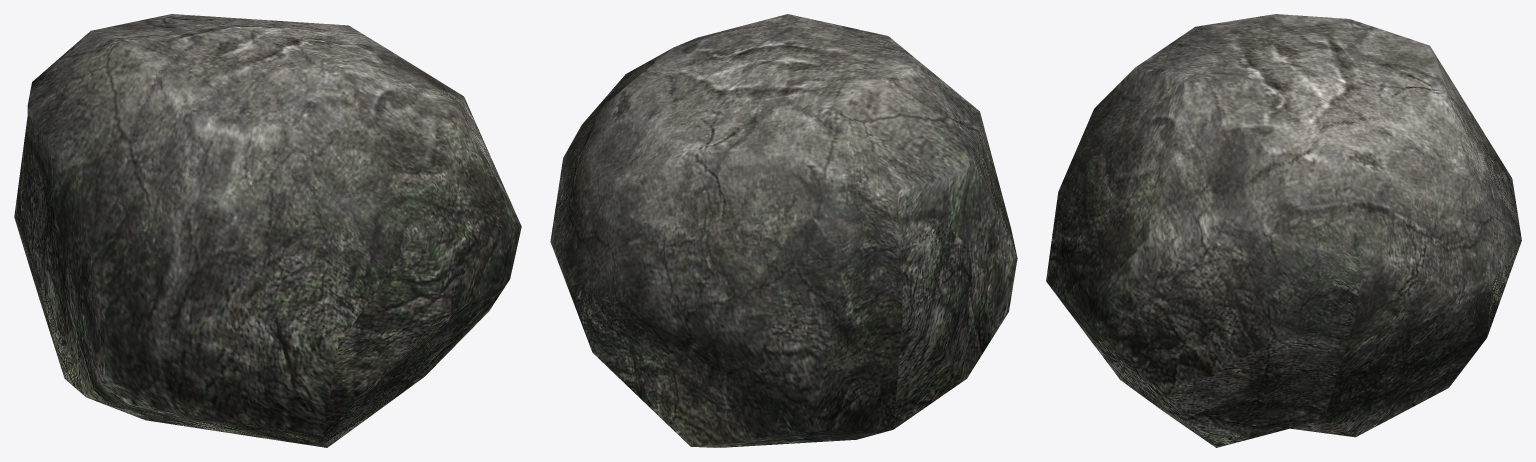
File: Stone02.fbx
3 views of the same model, side by side, from view 1: azimuth 30°, elevation 25°; view 2: azimuth 150°, elevation 25°; view 3: azimuth 270°, elevation 25° (orthographic). The views are drawn at different scales.
Parts seen in each view (by area): view 1: Stone02; view 2: Stone02; view 3: Stone02.
Boxes of the visible parts, box(x1,y1,x2,y2) form: Stone02: box(14, 14, 521, 447); Stone02: box(550, 14, 1017, 447); Stone02: box(1046, 14, 1521, 447).
Bounding box in the file's own units: 1.1 × 1.02 × 1.2.
